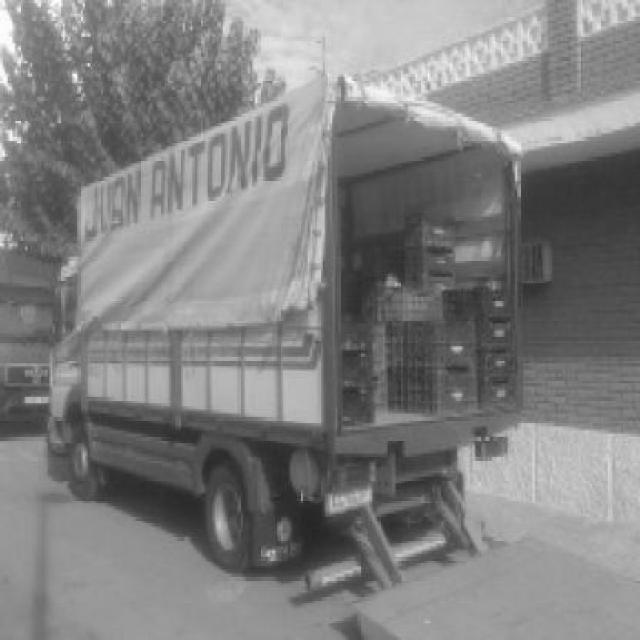Box Truck: (45, 77, 523, 585)
